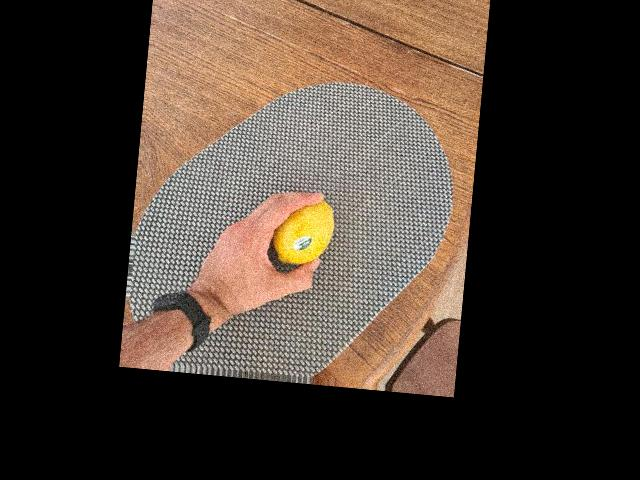lemon: (271, 190, 339, 269)
